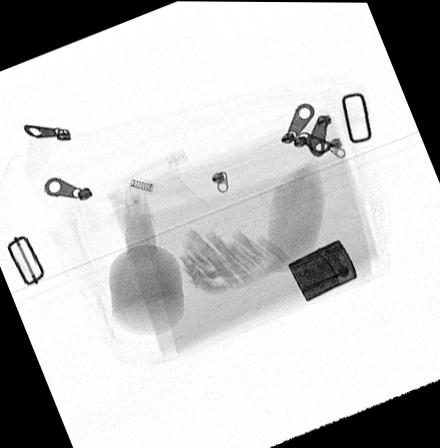Lighter: (287, 239, 358, 302)
